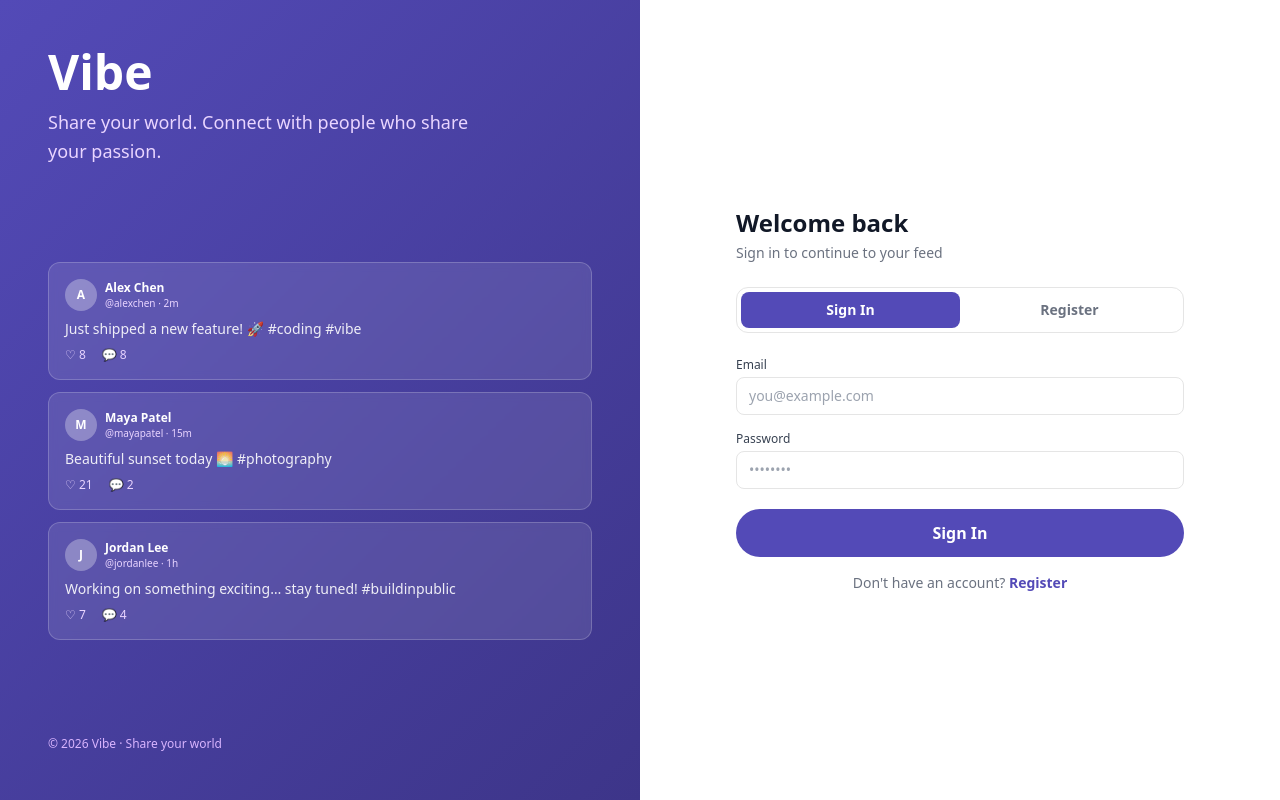
Test case: LandingPage › updates the submit button label when switching tabs
This screenshot has width=1280, height=800.
Expected: the button with test id "auth-submit" reads "Sign In", [736,509,1184,557]
// Switch to Register
Click the button with test id "register-tab". click: (1070, 310)
box: [960,292,1179,328]
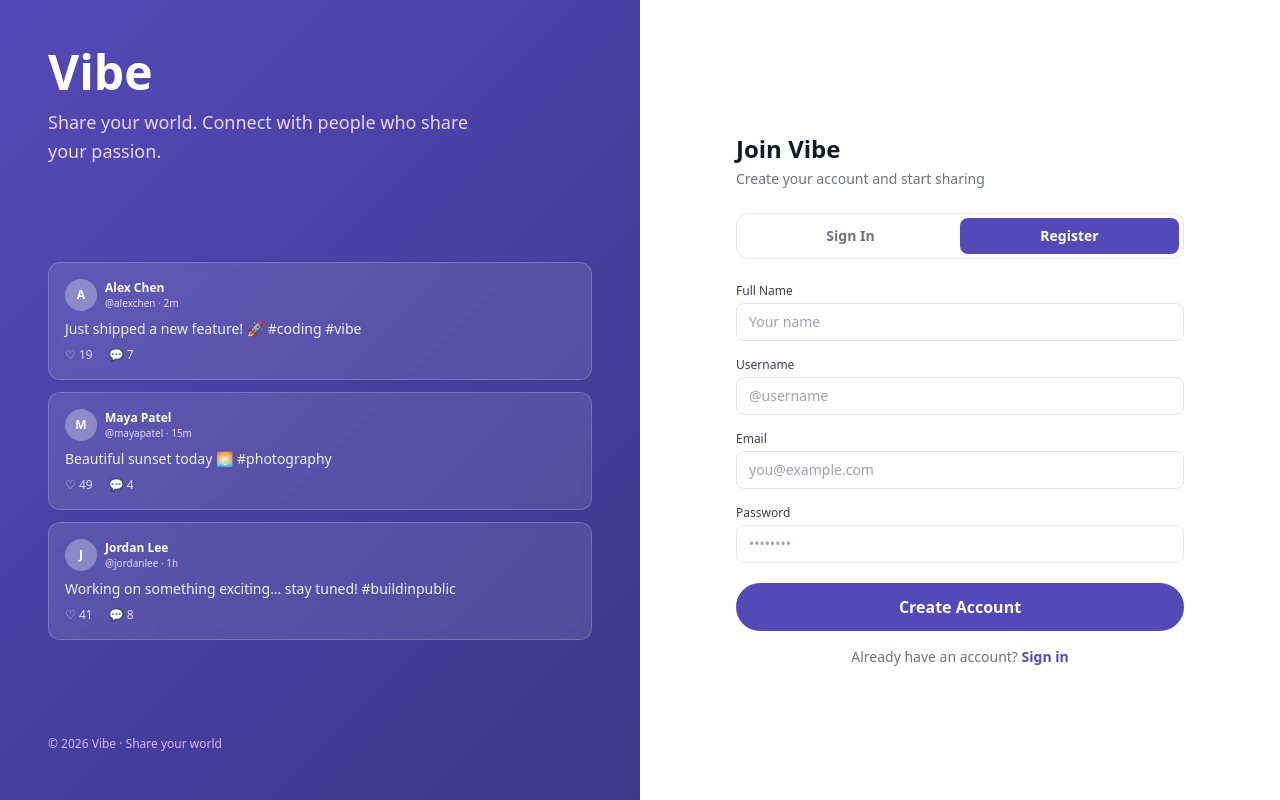
Expected: the button with test id "auth-submit" reads "Create Account", [736,583,1184,631]
